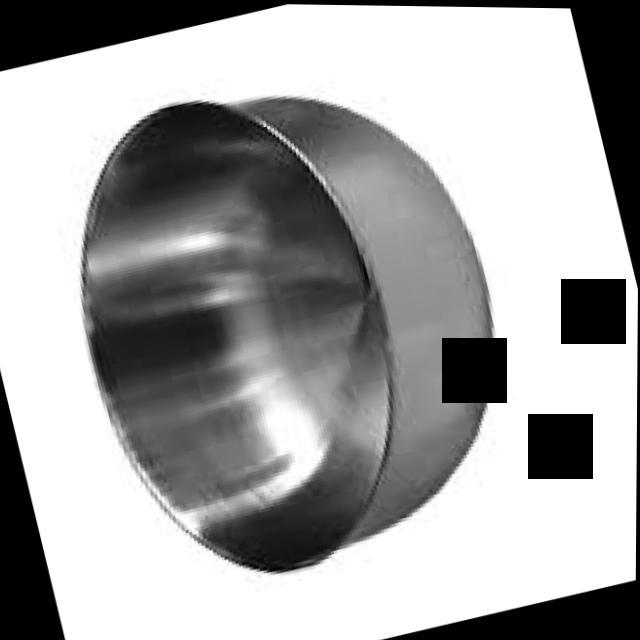Sponge Bowl: (21, 27, 554, 616)
